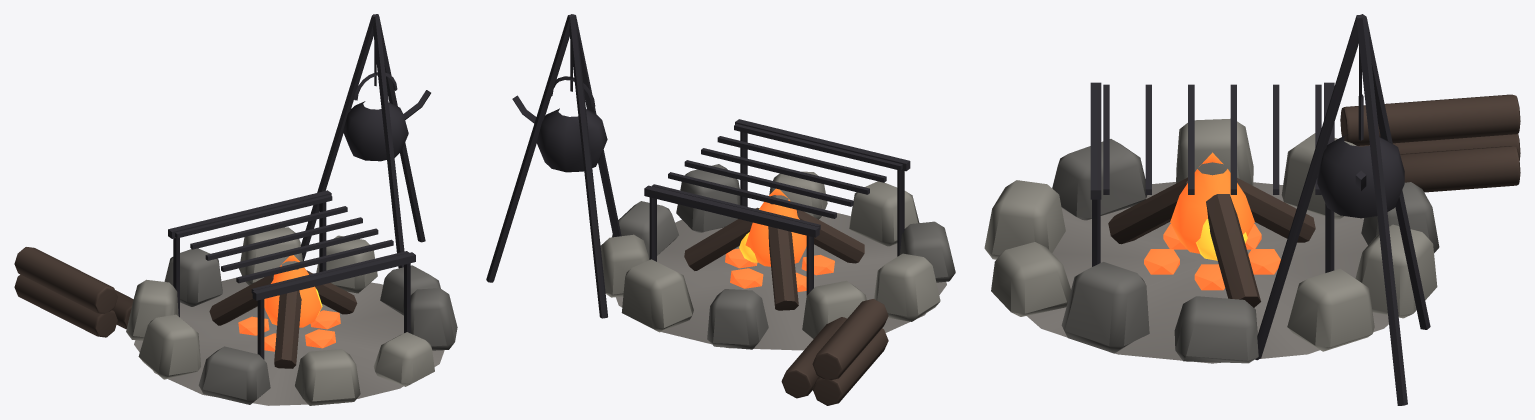
Rendered from firepit_grill.glb.
The picture shows the model from 3 angles, left to right: view 1: azimuth 30°, elevation 25°; view 2: azimuth 150°, elevation 25°; view 3: azimuth 270°, elevation 25°; orthographic projection. The views are drawn at different scales.
Visible parts, largest first — view 1: firepit_grill, flame; view 2: firepit_grill, flame; view 3: firepit_grill, flame.
Boxes of the visible parts, box(x1,y1,x2,y2) form: firepit_grill: box(14, 14, 457, 405); flame: box(238, 255, 340, 351); firepit_grill: box(486, 14, 955, 405); flame: box(725, 188, 834, 291); firepit_grill: box(984, 14, 1520, 405); flame: box(1144, 152, 1280, 290).
Bounding box in the file's own units: 1.68 × 1.08 × 1.52.
